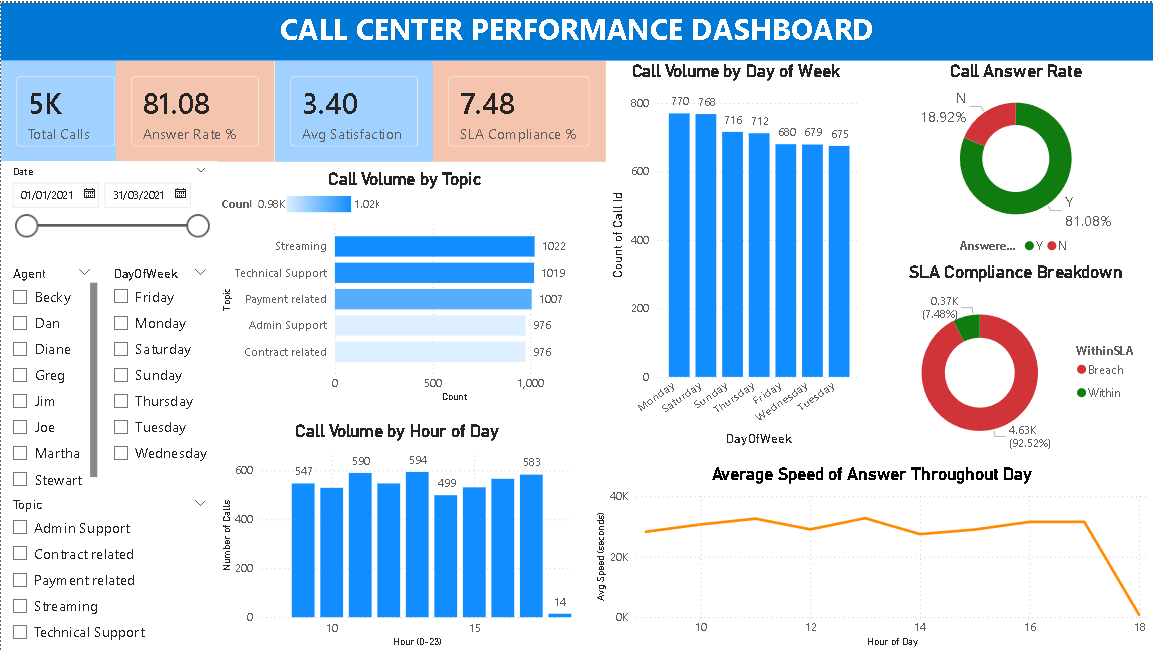

The dashboard page shown, as its layout file describes it:
{"tool":"powerbi","page":{"name":"Page 1 - CALL CENTER PERFROAMCNE DASHBOARD","canvas":[1280,720],"ordinal":0},"visuals":[{"type":"cardVisual","fields":{"Data":["CallLog.Total Calls"]},"box":[0,64,144,112],"z":0},{"type":"cardVisual","fields":{"Data":["CallLog.Answer Rate %"]},"box":[128,64,176,112],"z":1000},{"type":"cardVisual","fields":{"Data":["CallLog.Avg Satisfaction"]},"box":[304,64,176,112],"z":2000},{"type":"cardVisual","fields":{"Data":["CallLog.SLA Compliance %"]},"box":[480,64,192,112],"z":3000},{"type":"slicer","fields":{"Values":["CallLog.Date"]},"box":[0,176,240,112],"z":4000},{"type":"slicer","fields":{"Values":["CallLog.Topic"]},"box":[0,544,240,176],"z":5000},{"type":"slicer","fields":{"Values":["CallLog.Agent"]},"box":[0,288,112,256],"z":6000},{"type":"slicer","fields":{"Values":["CallLog.DayOfWeek"]},"box":[112,288,128,256],"z":7000},{"type":"barChart","title":"Call Volume by Topic","fields":{"Category":["CallLog.Topic"],"Y":["CallLog.Call Id"]},"box":[240,184,416,264],"z":8000},{"type":"clusteredColumnChart","title":"Call Volume by Hour of Day","fields":{"Category":["CallLog.HourOfDay"],"Y":["CallLog.Call Id"]},"box":[240,464,400,256],"z":9000},{"type":"donutChart","title":"Call Answer Rate","fields":{"Category":["CallLog.Answered (Y/N)"],"Y":["CallLog.Call Id"]},"box":[976,64,304,224],"z":10000},{"type":"donutChart","title":"SLA Compliance Breakdown","fields":{"Category":["CallLog.WithinSLA"],"Y":["CallLog.Call Id"]},"box":[976,288,304,224],"z":11000},{"type":"clusteredColumnChart","title":"Call Volume by Day of Week","fields":{"Category":["CallLog.DayOfWeek"],"Y":["CallLog.Call Id"]},"box":[672,64,288,432],"z":12000},{"type":"lineChart","title":"Average Speed of Answer Throughout Day","fields":{"Category":["CallLog.HourOfDay"],"Y":["CallLog.Speed of answer in seconds"]},"box":[656,512,624,208],"z":13000},{"type":"textbox","box":[0,0,1280,64],"z":14000}]}

Visuals, with their boxes in screenshot pixels (x1, y1, x2, y2), scaled from the page's 1280x720 canvas onto the 1153x651 screenshot:
cardVisual - CallLog.Total Calls: [left=0, top=58, right=130, bottom=159]
cardVisual - CallLog.Answer Rate %: [left=115, top=58, right=274, bottom=159]
cardVisual - CallLog.Avg Satisfaction: [left=274, top=58, right=432, bottom=159]
cardVisual - CallLog.SLA Compliance %: [left=432, top=58, right=605, bottom=159]
slicer - CallLog.Date: [left=0, top=159, right=216, bottom=260]
slicer - CallLog.Topic: [left=0, top=492, right=216, bottom=650]
slicer - CallLog.Agent: [left=0, top=260, right=101, bottom=492]
slicer - CallLog.DayOfWeek: [left=101, top=260, right=216, bottom=492]
"Call Volume by Topic" barChart: [left=216, top=166, right=591, bottom=405]
"Call Volume by Hour of Day" clusteredColumnChart: [left=216, top=420, right=576, bottom=650]
"Call Answer Rate" donutChart: [left=879, top=58, right=1152, bottom=260]
"SLA Compliance Breakdown" donutChart: [left=879, top=260, right=1152, bottom=463]
"Call Volume by Day of Week" clusteredColumnChart: [left=605, top=58, right=865, bottom=448]
"Average Speed of Answer Throughout Day" lineChart: [left=591, top=463, right=1152, bottom=650]
textbox: [left=0, top=0, right=1152, bottom=58]
